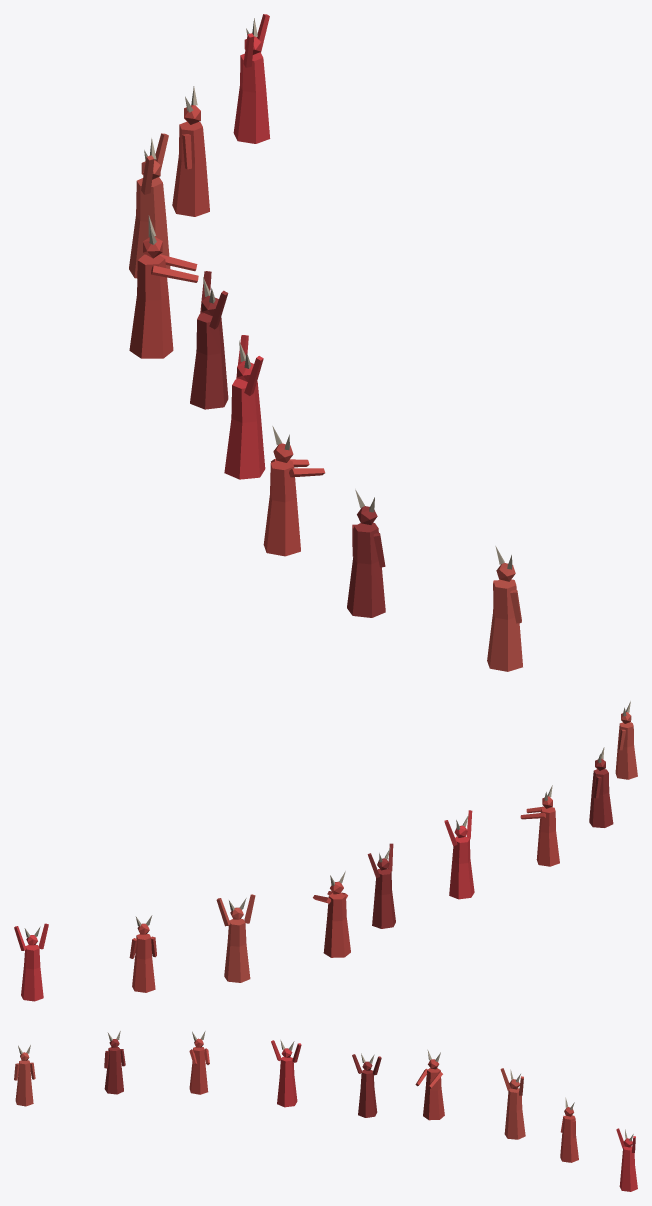
Rendered from Stands_5_0_1_Ice.obj.
3 renders of one model, top to bottom at view 1: azimuth 30°, elevation 25°; view 2: azimuth 150°, elevation 25°; view 3: azimuth 270°, elevation 25°, orthographic. The views are drawn at different scales.
Parts seen in each view (by area): view 1: Stands_5_0_1_Ice; view 2: Stands_5_0_1_Ice; view 3: Stands_5_0_1_Ice.
Boxes of the visible parts, left/top/right/bottom form: Stands_5_0_1_Ice: left=129, top=14, right=522, bottom=671; Stands_5_0_1_Ice: left=14, top=701, right=637, bottom=1001; Stands_5_0_1_Ice: left=14, top=1031, right=637, bottom=1191.
Bounding box in the file's own units: 13.77 × 3.91 × 33.86.
1 material, 1 textured.
